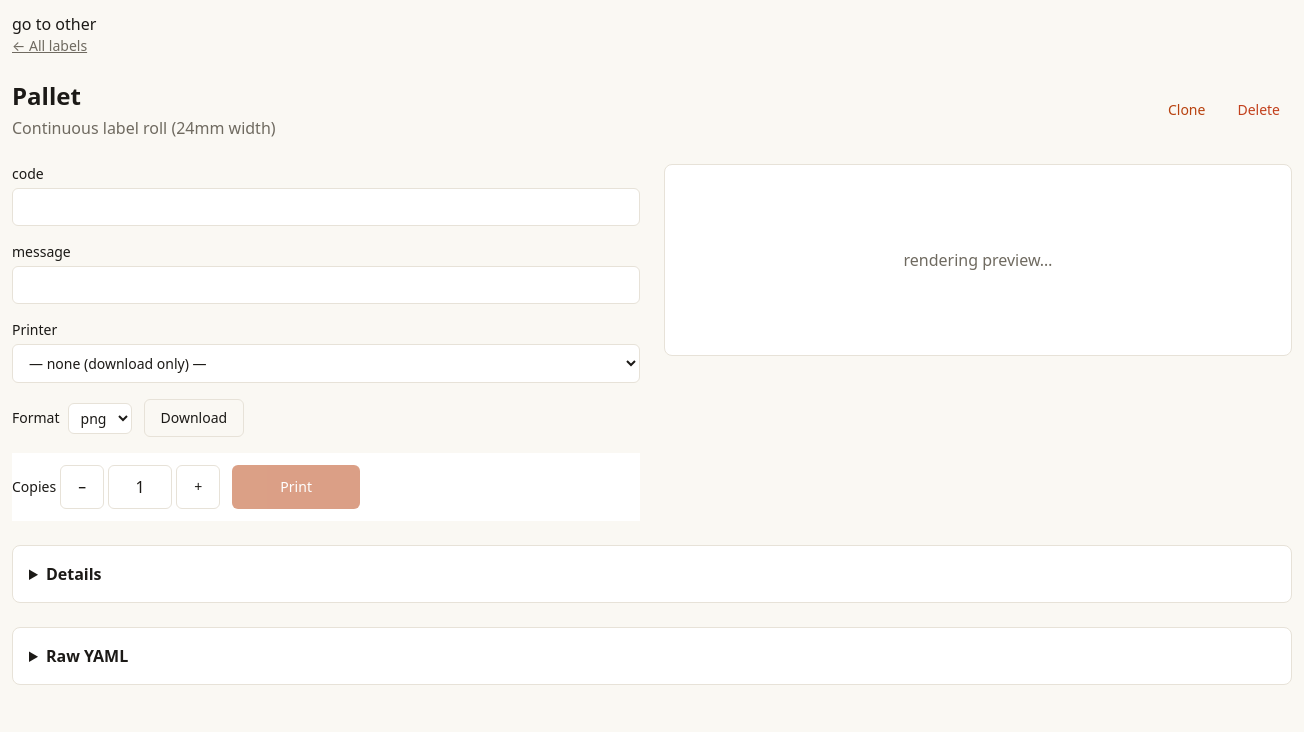
Template cloning › sends no create if the fetched source cannot be parsed
This screenshot has width=1304, height=732.
expect the heading "Pallet" is shown: met, box [12,79,81,112]
Click the button "Clone".
click(1187, 110)  # box [1156,92,1217,128]
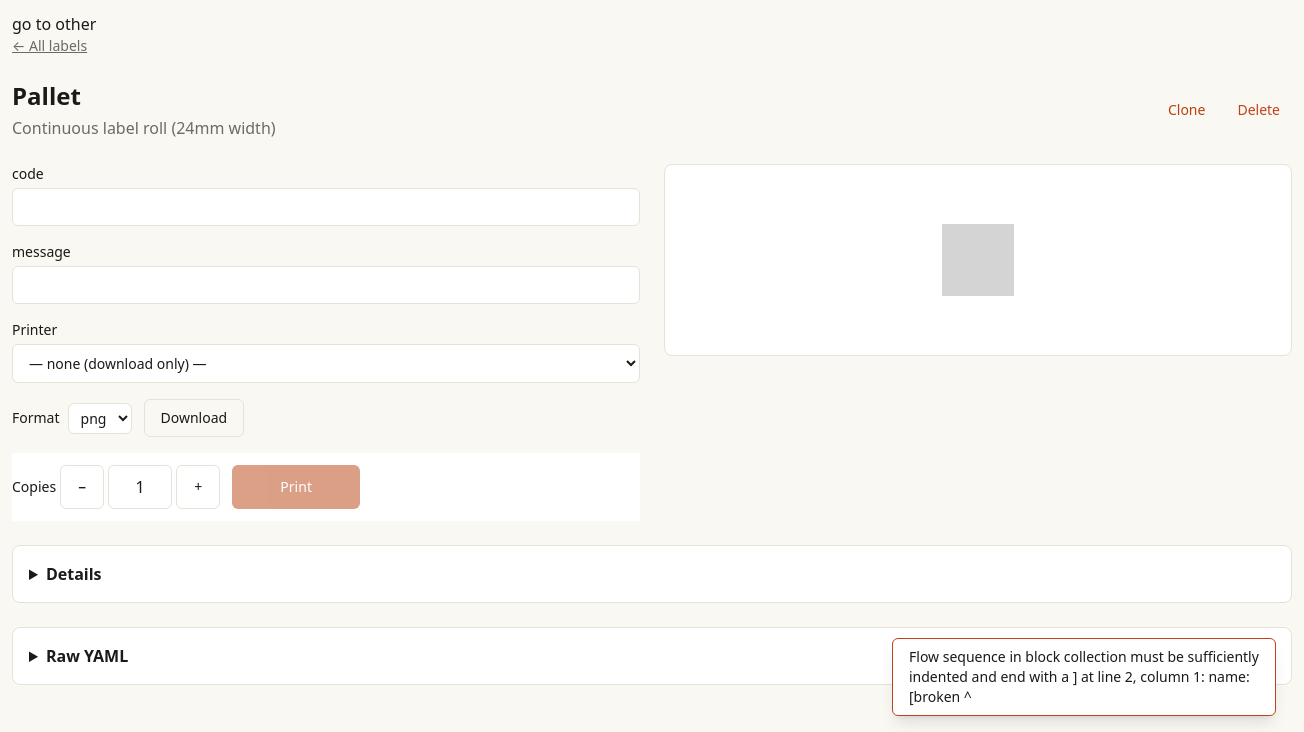
expect the button "end with a ]" is shown: met, box [892,638,1276,716]
